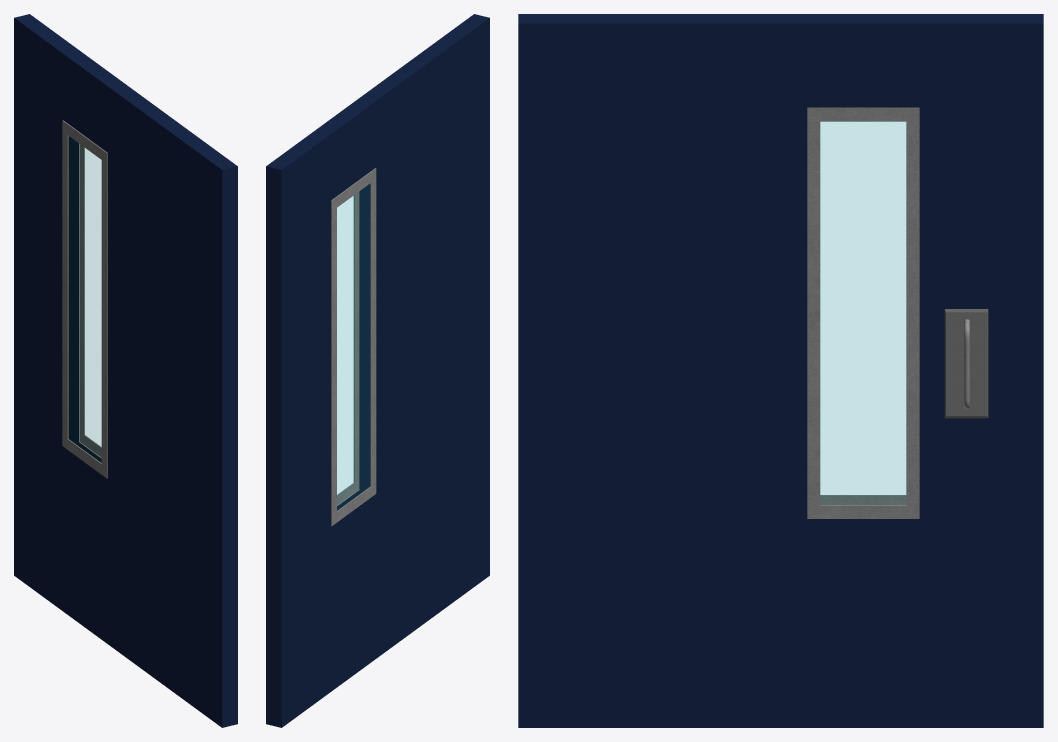
Rendered from investigation room door.fbx.
3 renders of one model, left to right at view 1: azimuth 30°, elevation 25°; view 2: azimuth 150°, elevation 25°; view 3: azimuth 270°, elevation 25°, orthographic. The views are drawn at different scales.
Visible parts, largest first — view 1: polySurface1561; view 2: polySurface1561; view 3: polySurface1561.
Part boxes in pixels (bbox=[...]): polySurface1561: bbox=[14, 14, 237, 727]; polySurface1561: bbox=[266, 14, 489, 727]; polySurface1561: bbox=[518, 14, 1043, 727].
Bounding box in the file's own units: 0.1119 × 2.1 × 1.42.
2 materials, 1 textured.
